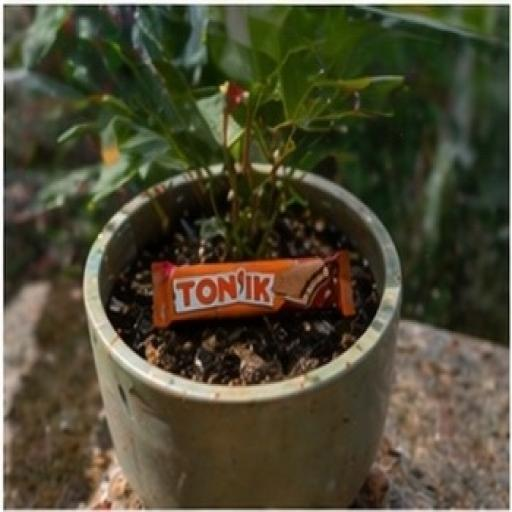tonik: (81, 117, 420, 425)
